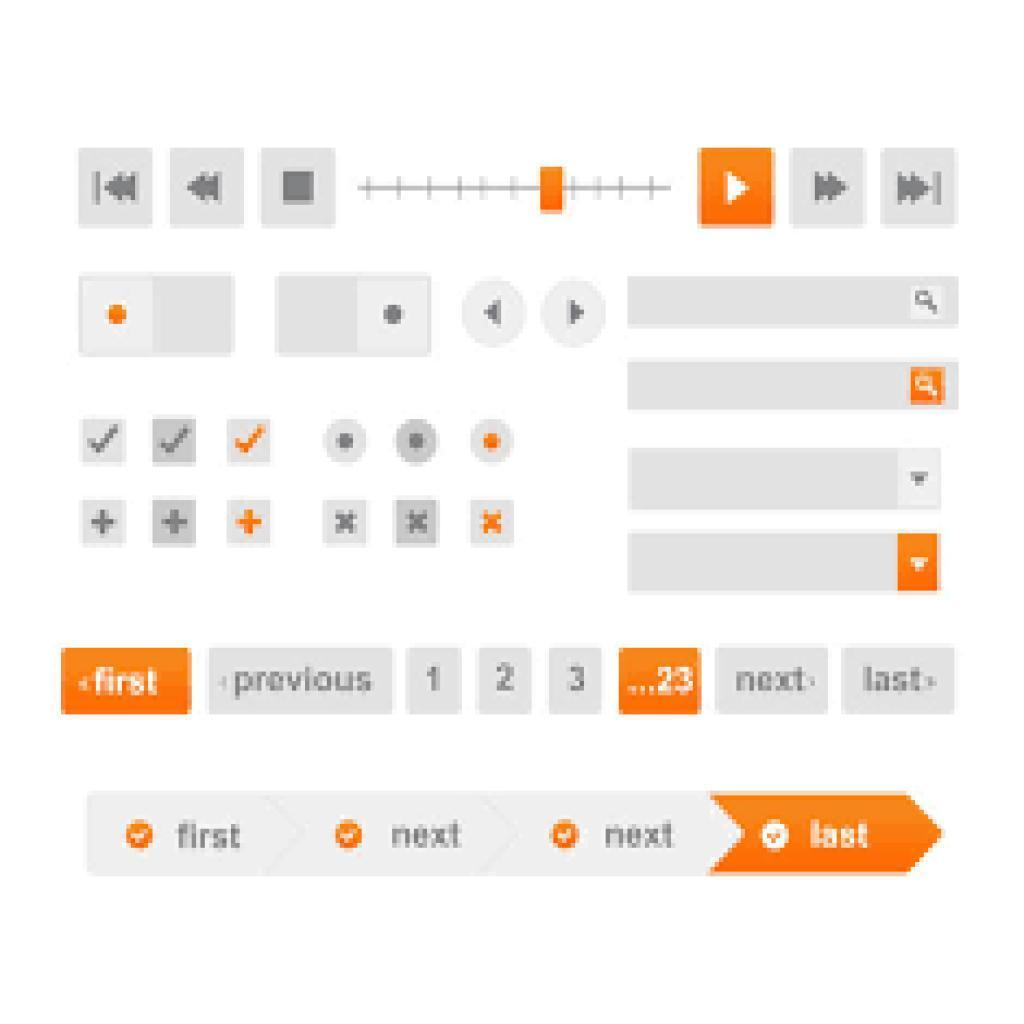button: (207, 649, 394, 712), (63, 649, 194, 715), (715, 643, 834, 711), (845, 649, 952, 718), (78, 146, 154, 230), (696, 147, 775, 227), (259, 147, 336, 227), (170, 147, 245, 226), (621, 647, 705, 716), (790, 150, 865, 227), (884, 152, 952, 223), (547, 649, 608, 716), (403, 647, 462, 712), (479, 646, 536, 713)
checkbox: (223, 407, 284, 475), (147, 407, 205, 478), (71, 407, 132, 473)
dropdown: (630, 531, 948, 602), (618, 451, 944, 518)
input: (629, 364, 962, 410), (630, 281, 958, 327)
radio: (463, 414, 515, 468), (394, 413, 440, 470), (323, 418, 367, 472)
slider: (358, 134, 682, 233)
switch: (81, 273, 238, 365), (282, 275, 427, 358)
